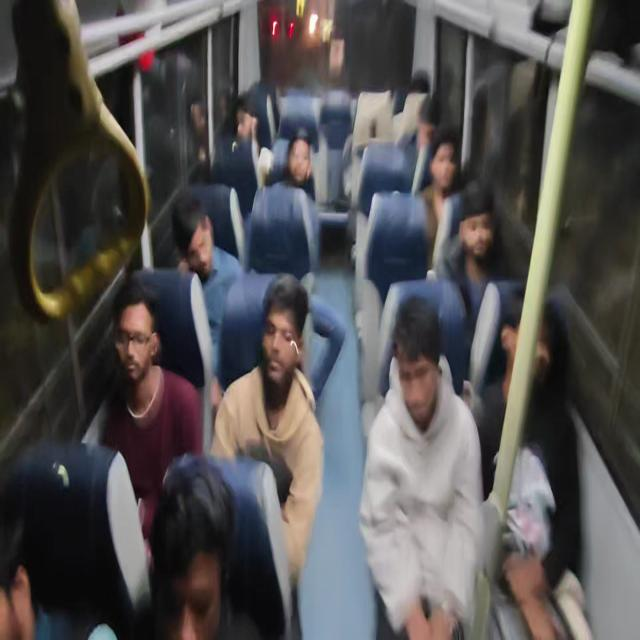person: (100, 276, 182, 472), (0, 402, 63, 640), (156, 519, 272, 640), (370, 302, 452, 448), (249, 295, 314, 430), (273, 136, 344, 245), (491, 299, 546, 424), (453, 182, 501, 310), (170, 178, 220, 295), (230, 90, 271, 164), (430, 135, 465, 186), (412, 106, 440, 164), (404, 61, 432, 104)
